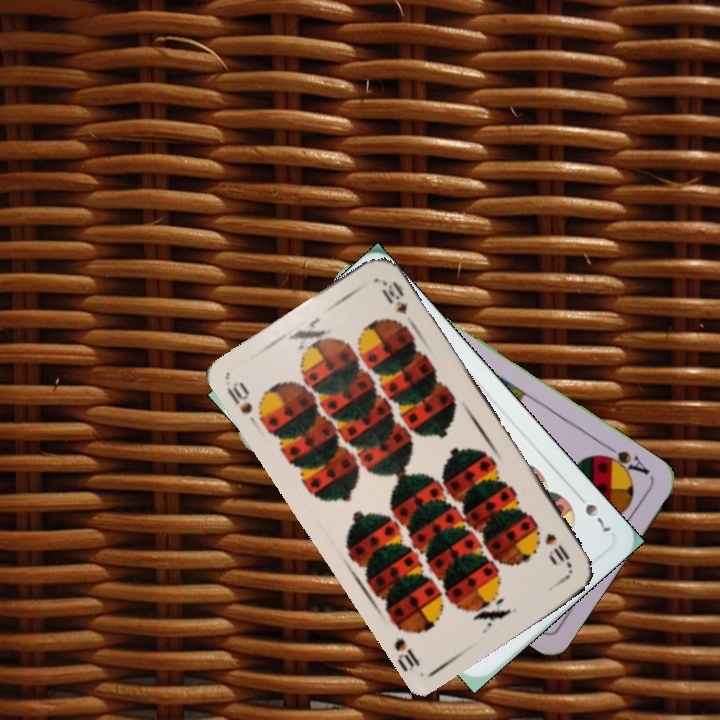S10: (222, 377, 262, 431), (541, 529, 575, 571)
S7: (581, 500, 614, 535)
SA: (595, 440, 653, 480)
